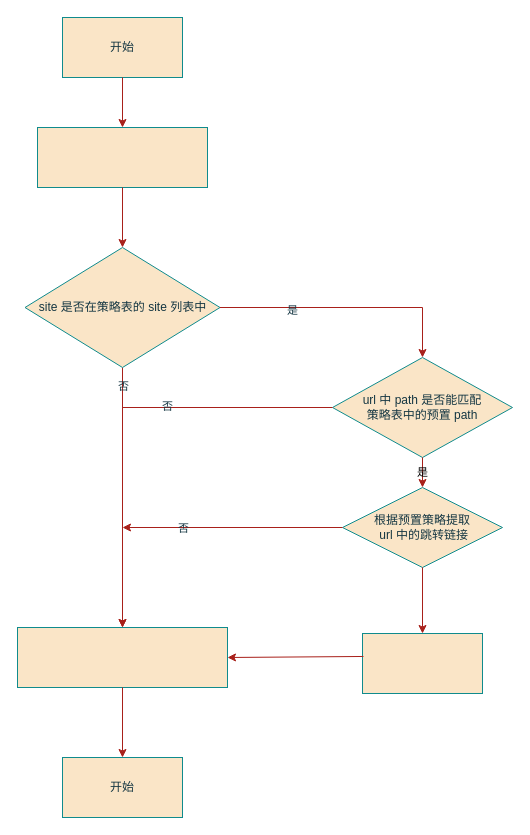
Some shapes in this 530 by 835 pixel diagram are drawn without their labels. The shapes that lost their labels are listed below. From the top down, each one's centre as x and y in pixels, then its label:
At pixel 122 157: "解析用户提交的 URL 的 link、site、domain".
At pixel 122 657: "计算 MD5(link), MD5(site), MD5(domain)".
At pixel 422 663: "用提取到的跳转目标URL 替换用户提交的 URL".
